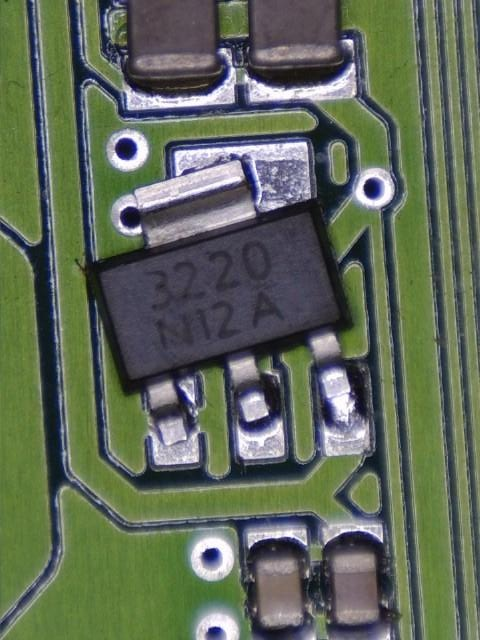pcb_defect: (87, 140, 373, 467), (110, 142, 311, 249)
